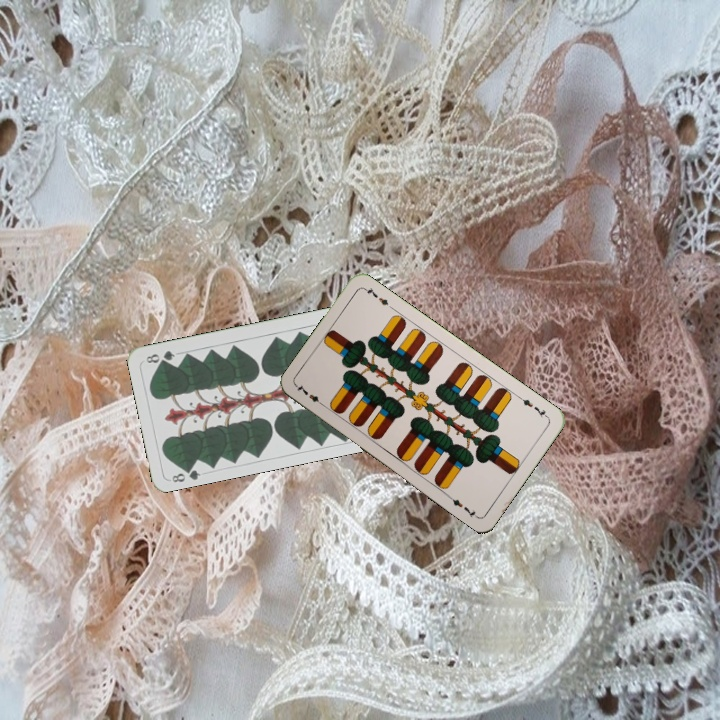E7: (293, 380, 328, 409), (515, 392, 551, 420)
G8: (168, 462, 203, 485)
